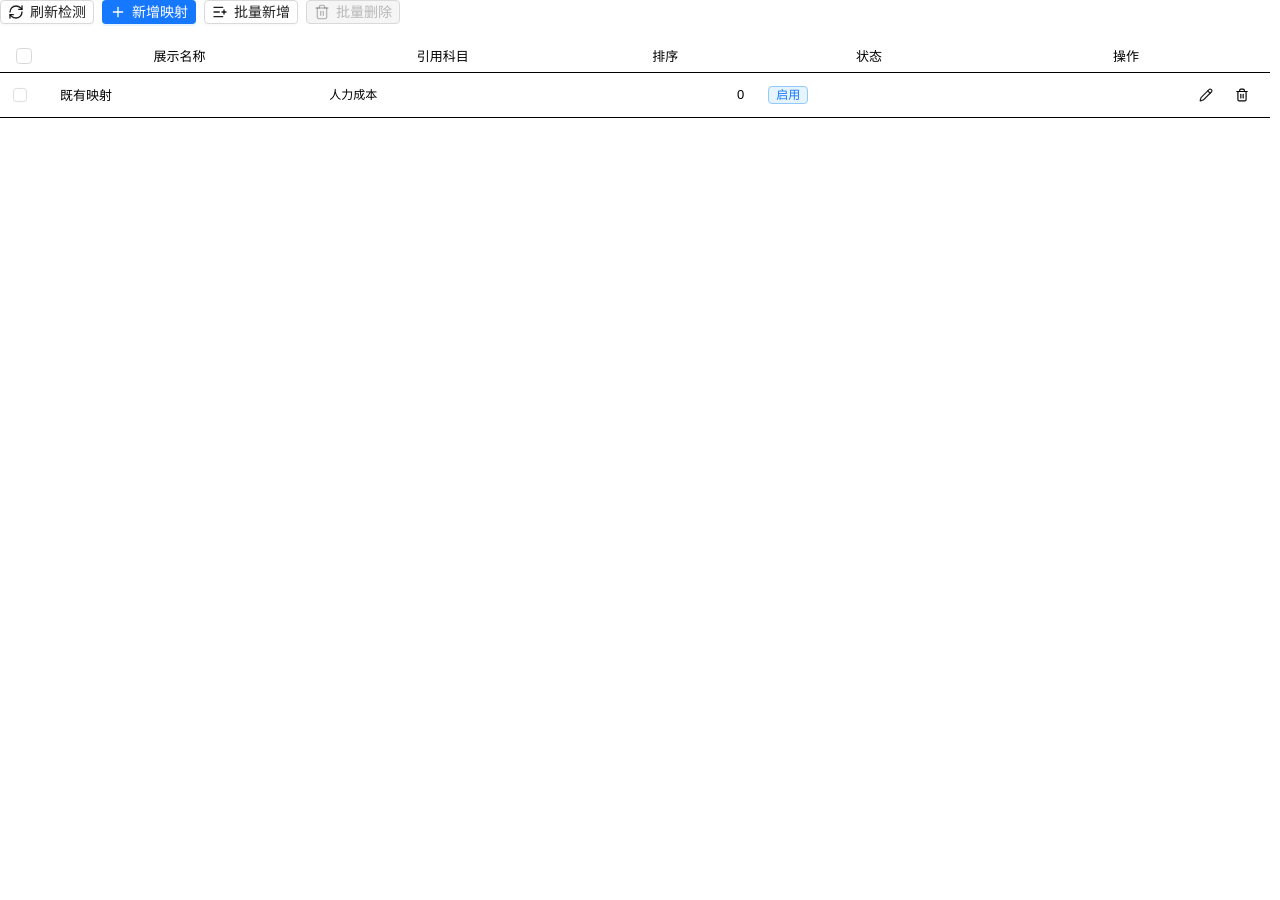
it: ExpenseMappingPanel 引用科目排除已引用 › 新增对话框不展示已被启用映射引用的科目
Click the button "新增映射".
click(149, 12)  # box [102,0,196,24]
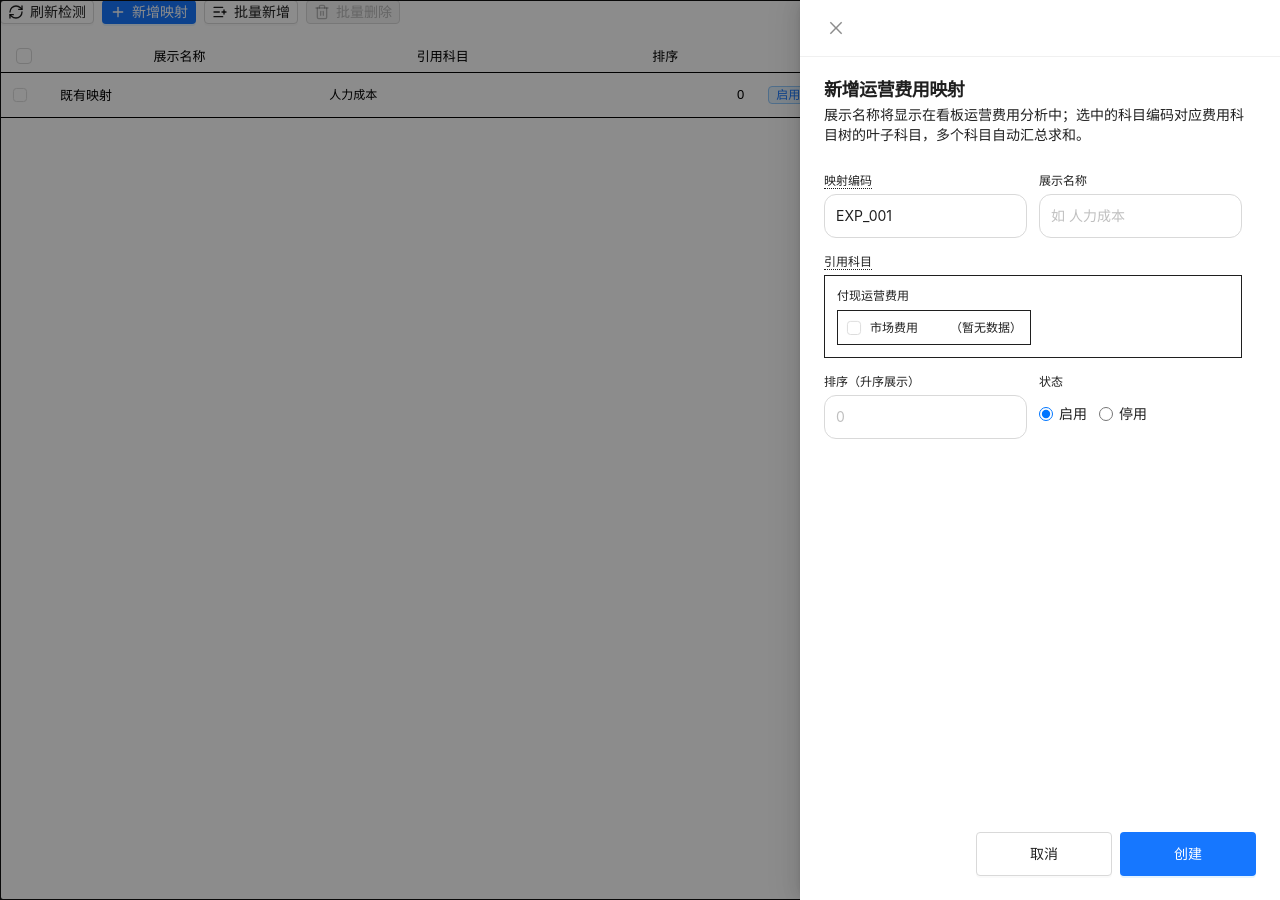
Now the field showing "EXP_001" is shown, box [824,194,1027,238]
Now the 3rd checkbox labelled "市场费用 （暂无数据）" is shown, box [837,310,1031,345]
